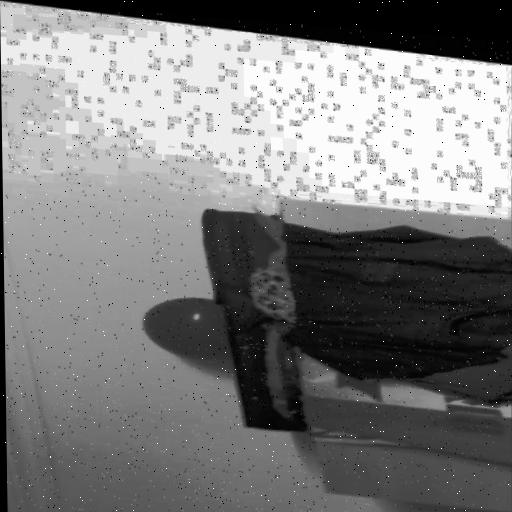balloon: (133, 285, 229, 366)
